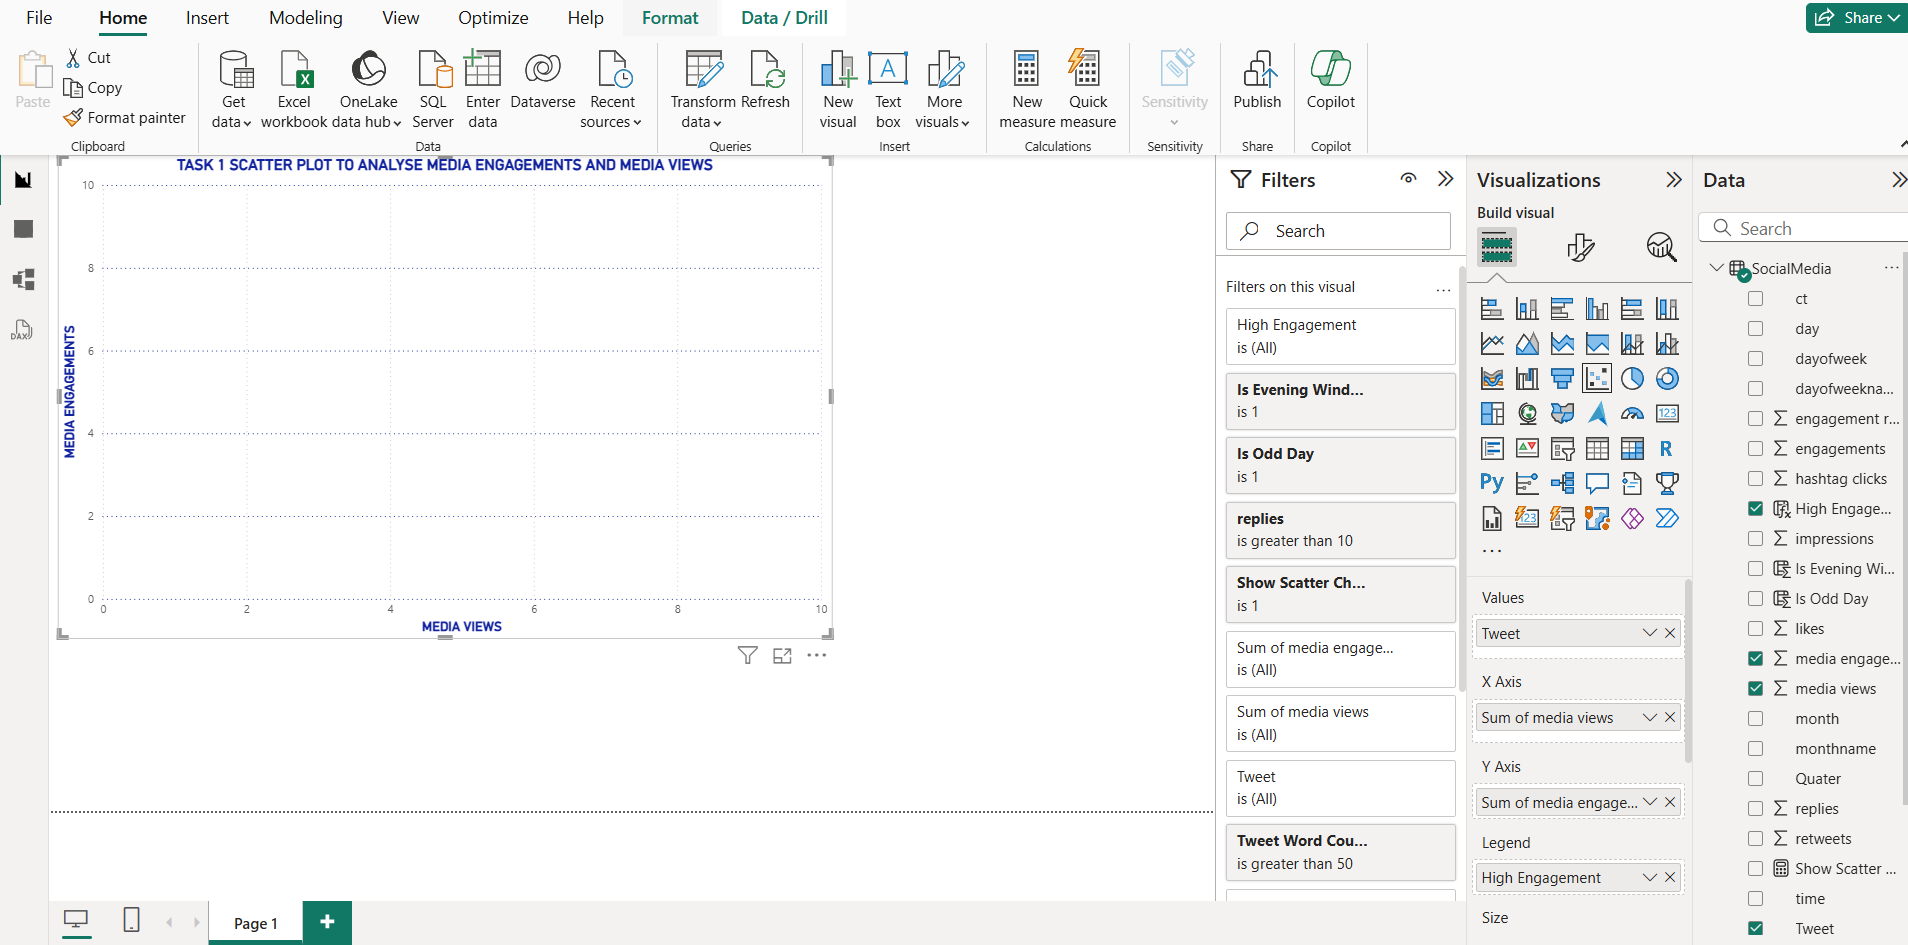

Layout of this report page (visuals, bound fields, positions):
{"tool":"powerbi","page":{"name":"Page 1","canvas":[1280,720],"ordinal":0},"visuals":[{"type":"scatterChart","title":"TASK 1 SCATTER PLOT TO ANALYSE MEDIA ENGAGEMENTS AND MEDIA VIEWS","fields":{"Category":["SocialMedia.Tweet"],"X":["Sum(SocialMedia.media views)"],"Y":["Sum(SocialMedia.media engagements)"],"Series":["SocialMedia.High Engagement"]},"box":[10,0,850,531.2],"z":0}]}

Visuals, with their boxes on the page's 1280x720 design canvas (x1, y1, x2, y2). These are canvas units, not pixel positions in the 1908x945 screenshot, which may show the page scaled, cropped or inside an application window:
"TASK 1 SCATTER PLOT TO ANALYSE MEDIA ENGAGEMENTS AND MEDIA VIEWS" scatterChart: Rect(10, 0, 860, 531)
